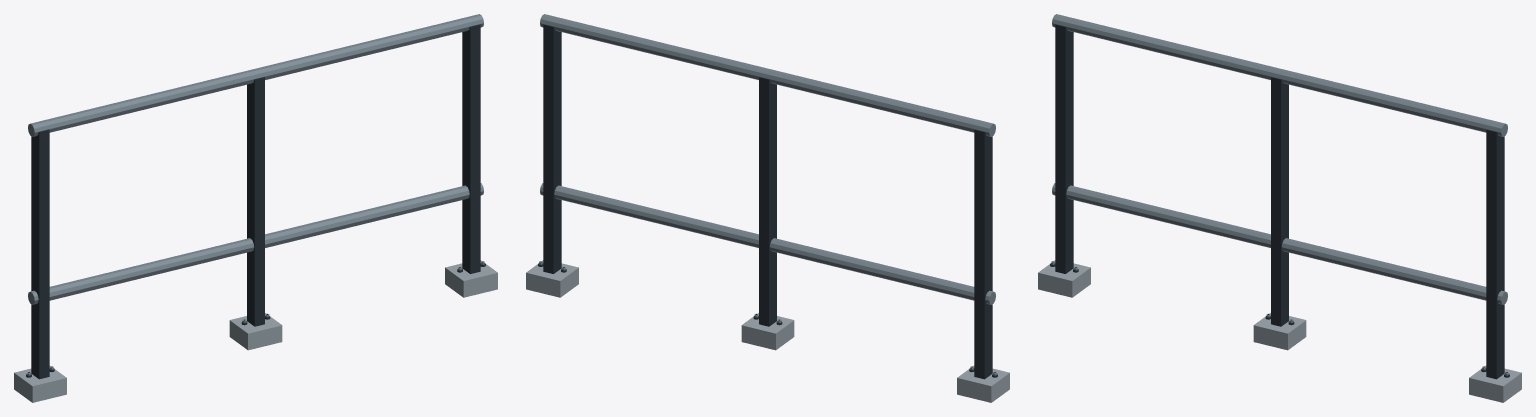
Rendered from SM_Lab_RailStraight.fbx.
3 views of the same model, side by side, from view 1: azimuth 30°, elevation 25°; view 2: azimuth 150°, elevation 25°; view 3: azimuth 330°, elevation 25° (orthographic).
Visible parts, largest first — view 1: SM_Lab_RailStraight; view 2: SM_Lab_RailStraight; view 3: SM_Lab_RailStraight.
Part boxes in pixels (x1,y1,x2,y2): SM_Lab_RailStraight: [14, 14, 497, 402]; SM_Lab_RailStraight: [526, 14, 1009, 402]; SM_Lab_RailStraight: [1038, 14, 1521, 402].
Size of the model in its own units: 203 by 14 by 112.
